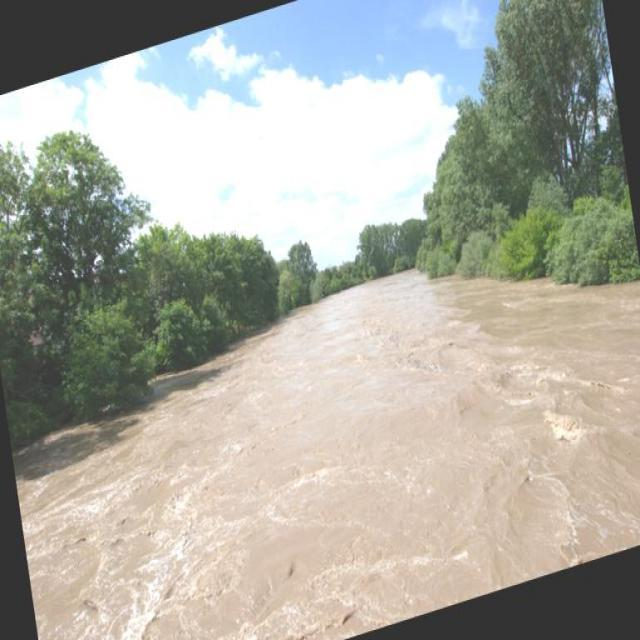flood: (2, 180, 639, 639)
